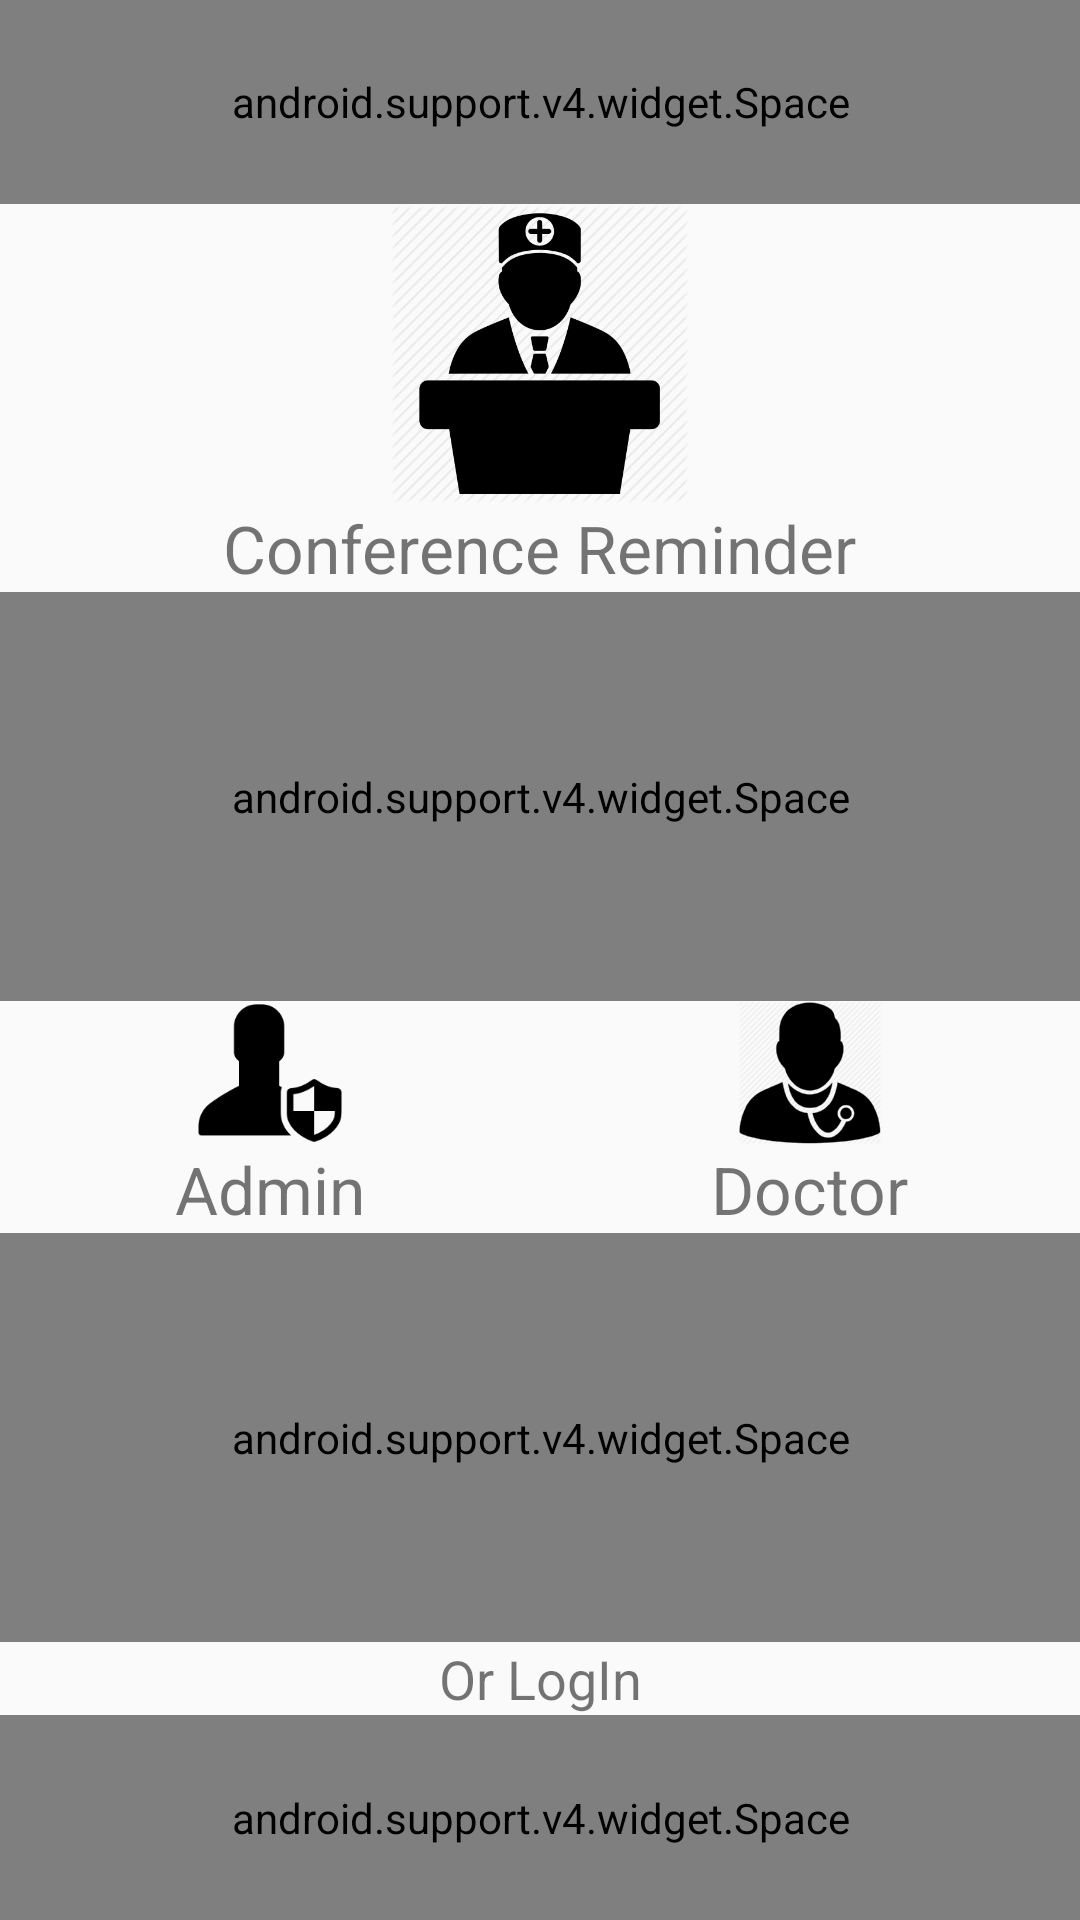

Icons on this 1080px x 1920px Android screen, each with the point to tap as (x,y):
official: (539,353)
